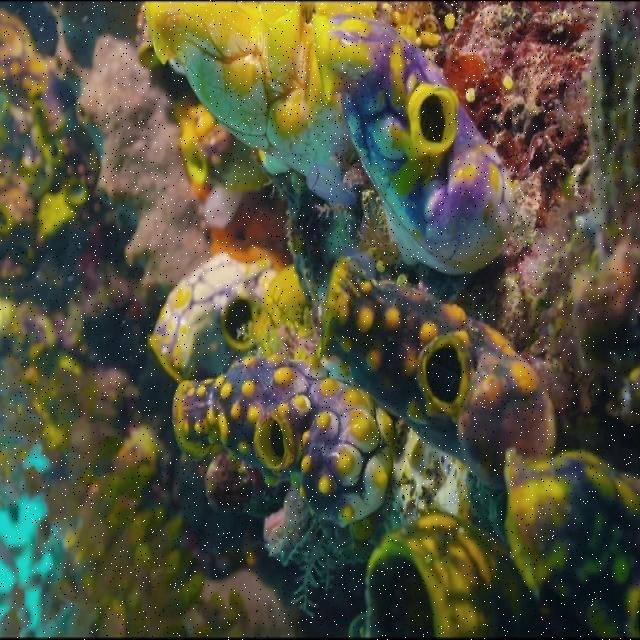reefs: (137, 1, 515, 273), (320, 253, 556, 490), (172, 353, 396, 525), (347, 507, 547, 639), (503, 447, 639, 639), (148, 250, 323, 383)
